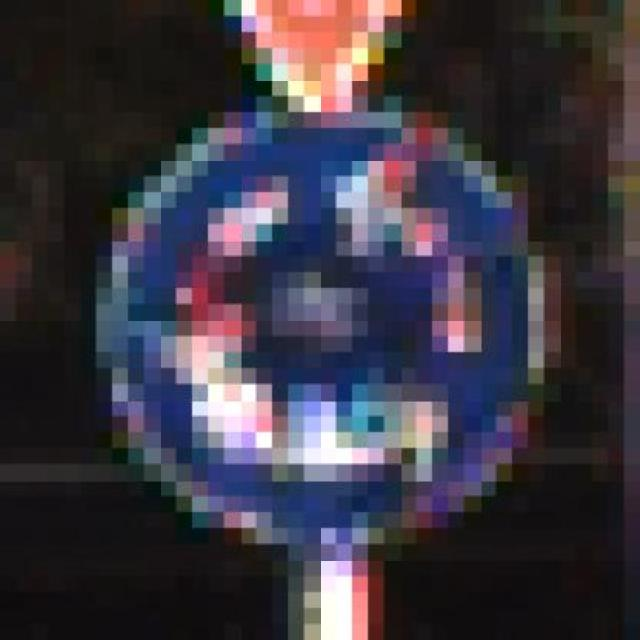Round-About: (80, 96, 592, 576)
